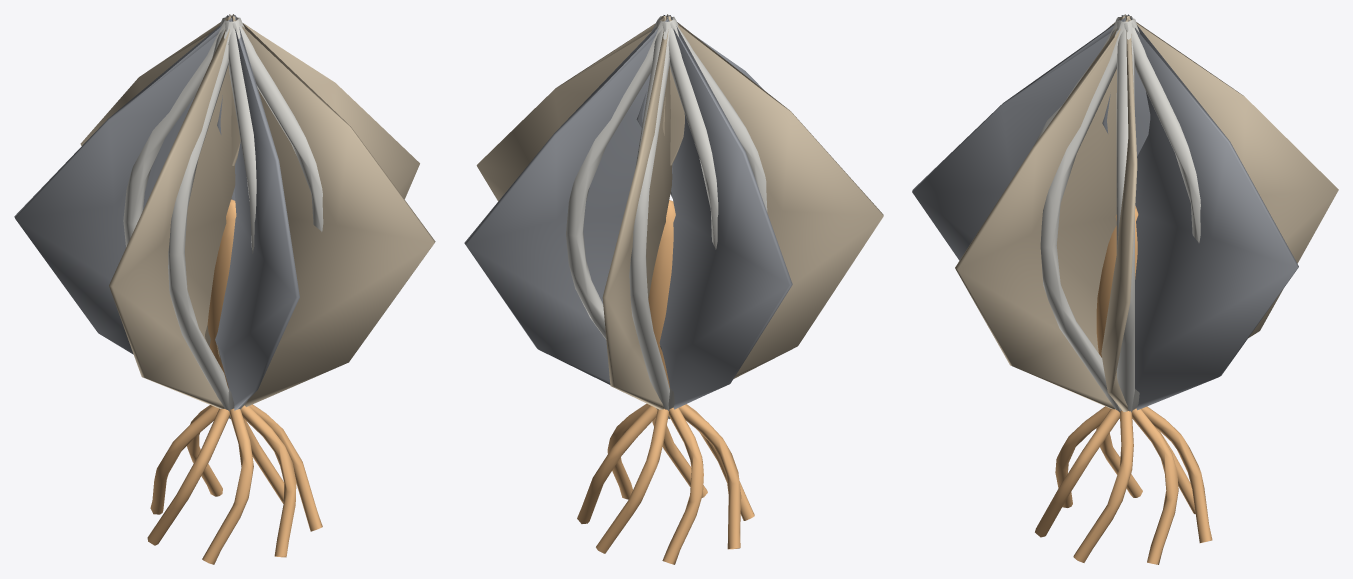
The model's file is bio_lantern_sail_10_far.glb.
3 renders of one model, left to right at view 1: azimuth 30°, elevation 25°; view 2: azimuth 150°, elevation 25°; view 3: azimuth 270°, elevation 25°, orthographic.
Visible parts, largest first — view 1: Ribbed sensory membrane.006, Ribbed sensory membrane.004, Ribbed sensory membrane.003, Ribbed sensory membrane.005, Membrane leading seam.004, Ribbed sensory membrane, Membrane leading seam.003, Membrane leading seam.006, Membrane leading seam.005, Trailing electroreceptor.004, Trailing electroreceptor.005, Trailing electroreceptor.003 (+6 smaller); view 2: Ribbed sensory membrane.001, Ribbed sensory membrane.003, Ribbed sensory membrane.004, Ribbed sensory membrane.002, Ribbed sensory membrane, Membrane leading seam.002, Membrane leading seam.001, Membrane leading seam.003, Trailing electroreceptor.002, Buoyancy spindle, Trailing electroreceptor.003, Trailing electroreceptor.001 (+5 smaller); view 3: Ribbed sensory membrane.001, Ribbed sensory membrane.006, Ribbed sensory membrane.005, Ribbed sensory membrane.002, Membrane leading seam.006, Ribbed sensory membrane, Membrane leading seam, Membrane leading seam.001, Trailing electroreceptor, Trailing electroreceptor.006, Trailing electroreceptor.001, Trailing electroreceptor.005 (+4 smaller).
Boxes of the visible parts, <box> form: Ribbed sensory membrane.006: <box>205,14,435,406</box>; Ribbed sensory membrane.004: <box>109,16,235,408</box>; Ribbed sensory membrane.003: <box>14,17,236,354</box>; Ribbed sensory membrane.005: <box>215,15,299,410</box>; Membrane leading seam.004: <box>168,19,233,418</box>; Ribbed sensory membrane: <box>217,14,419,362</box>; Membrane leading seam.003: <box>123,16,226,247</box>; Membrane leading seam.006: <box>232,17,323,407</box>; Membrane leading seam.005: <box>225,20,256,409</box>; Trailing electroreceptor.004: <box>202,408,253,564</box>; Trailing electroreceptor.005: <box>241,405,296,557</box>; Trailing electroreceptor.003: <box>147,408,229,545</box>; Ribbed sensory membrane.001: <box>464,16,673,384</box>; Ribbed sensory membrane.003: <box>659,15,792,409</box>; Ribbed sensory membrane.004: <box>667,14,883,378</box>; Ribbed sensory membrane.002: <box>602,16,672,409</box>; Ribbed sensory membrane: <box>476,16,684,201</box>; Membrane leading seam.002: <box>629,20,671,418</box>; Membrane leading seam.001: <box>566,17,663,409</box>; Membrane leading seam.003: <box>662,20,718,409</box>; Trailing electroreceptor.002: <box>662,407,703,564</box>; Buoyancy spindle: <box>648,200,675,387</box>; Trailing electroreceptor.003: <box>679,404,741,549</box>; Trailing electroreceptor.001: <box>596,409,668,553</box>; Ribbed sensory membrane.001: <box>1126,14,1298,410</box>; Ribbed sensory membrane.006: <box>955,16,1128,409</box>; Ribbed sensory membrane.005: <box>912,16,1150,260</box>; Ribbed sensory membrane.002: <box>1124,14,1338,337</box>; Membrane leading seam.006: <box>1040,18,1124,412</box>; Ribbed sensory membrane: <box>1101,16,1137,411</box>; Membrane leading seam: <box>1116,21,1134,418</box>; Membrane leading seam.001: <box>1124,18,1200,410</box>; Trailing electroreceptor: <box>1132,408,1178,564</box>; Trailing electroreceptor.006: <box>1073,410,1133,562</box>; Trailing electroreceptor.001: <box>1141,406,1212,543</box>; Trailing electroreceptor.005: <box>1035,409,1119,537</box>.
Bounding box in the file's own units: 2.31 × 3.15 × 2.36.
